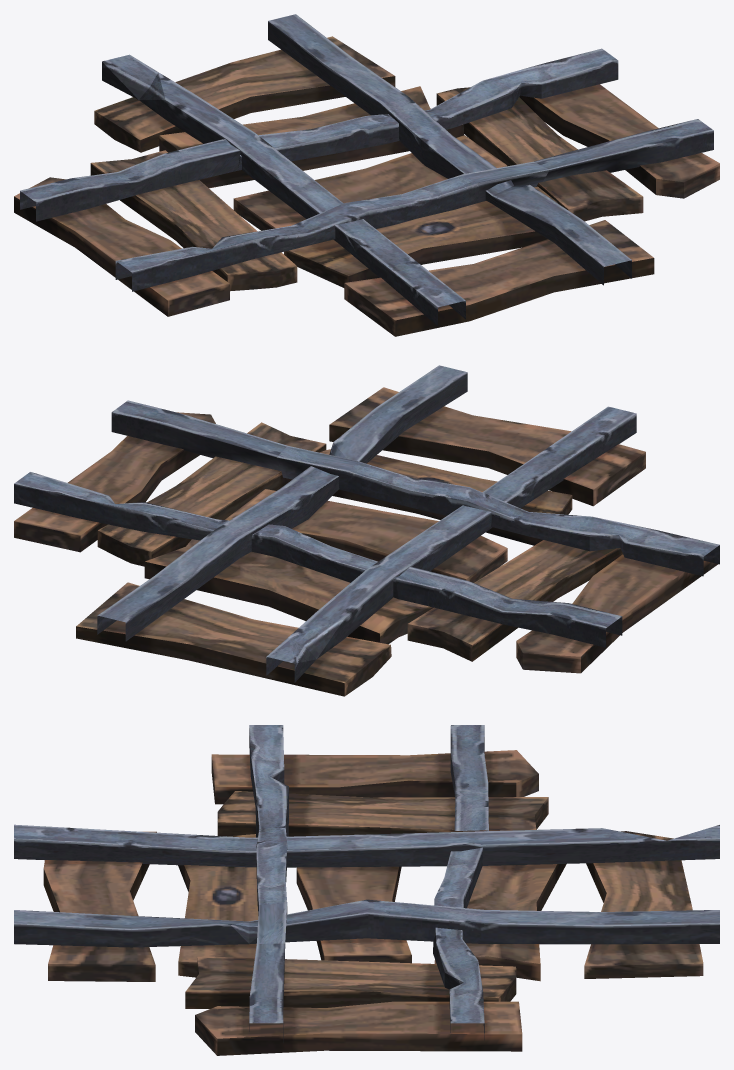
File: mine_track_cross.fbx
3 views of the same model, one above another, from view 1: azimuth 30°, elevation 25°; view 2: azimuth 150°, elevation 25°; view 3: azimuth 270°, elevation 25° (orthographic). The views are drawn at different scales.
Parts seen in each view (by area): view 1: mine_rails/mine_rails01; view 2: mine_rails/mine_rails01; view 3: mine_rails/mine_rails01.
Boxes of the visible parts, x1,y1,x2,y2 form: mine_rails/mine_rails01: (14,14,719,336); mine_rails/mine_rails01: (14,365,719,696); mine_rails/mine_rails01: (14,725,719,1055).
Size of the model in its own units: 4 by 0.2947 by 4.
